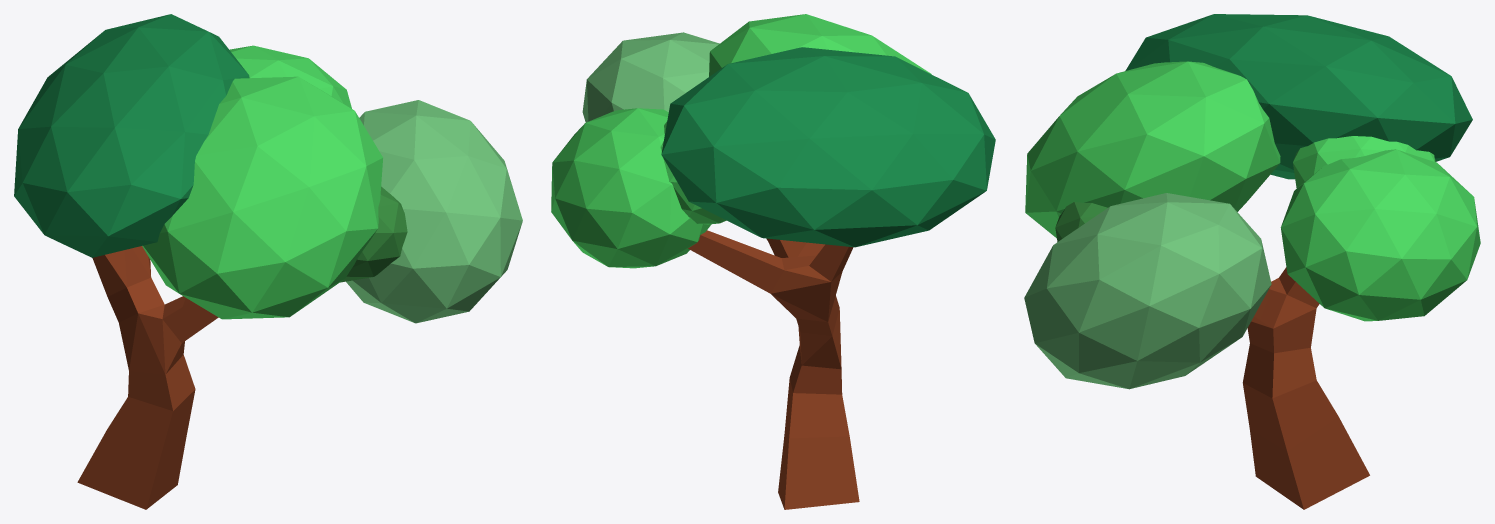
Rendered from RoundLeaveTree3.fbx.
3 views of the same model, side by side, from view 1: azimuth 30°, elevation 25°; view 2: azimuth 150°, elevation 25°; view 3: azimuth 270°, elevation 25° (orthographic). The views are drawn at different scales.
Visible parts, largest first — view 1: Icosphere.019, Icosphere.016, Icosphere.018, Plane.001, Icosphere.015, Icosphere.020; view 2: Icosphere.016, Plane.001, Icosphere.015, Icosphere.018, Icosphere.019, Icosphere.017; view 3: Icosphere.018, Icosphere.019, Icosphere.016, Icosphere.015, Plane.001, Icosphere.017, Icosphere.020.
Part boxes in pixels (left/top/right/bottom): Icosphere.019: left=142, top=76, right=382, bottom=319; Icosphere.016: left=14, top=14, right=249, bottom=257; Icosphere.018: left=346, top=100, right=522, bottom=323; Plane.001: left=77, top=246, right=218, bottom=509; Icosphere.015: left=229, top=45, right=351, bottom=108; Icosphere.020: left=340, top=186, right=407, bottom=282; Icosphere.016: left=661, top=47, right=995, bottom=247; Plane.001: left=688, top=230, right=859, bottom=509; Icosphere.015: left=551, top=108, right=711, bottom=268; Icosphere.018: left=582, top=32, right=719, bottom=122; Icosphere.019: left=709, top=14, right=931, bottom=76; Icosphere.017: left=660, top=122, right=726, bottom=224; Icosphere.018: left=1024, top=193, right=1271, bottom=389; Icosphere.019: left=1025, top=61, right=1280, bottom=238; Icosphere.016: left=1125, top=14, right=1472, bottom=179; Icosphere.015: left=1280, top=149, right=1480, bottom=321; Plane.001: left=1242, top=267, right=1369, bottom=509; Icosphere.017: left=1293, top=136, right=1435, bottom=188; Icosphere.020: left=1055, top=202, right=1107, bottom=241.
Size of the model in its own units: 777 by 763 by 673.
